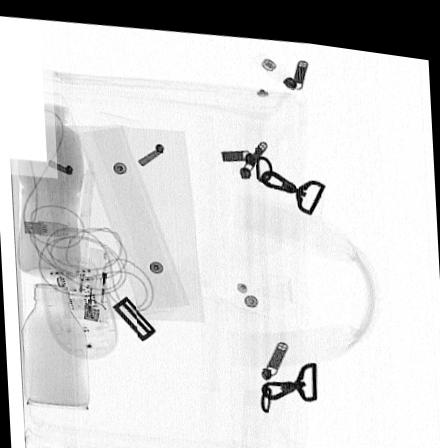Lighter: (83, 244, 110, 320)
